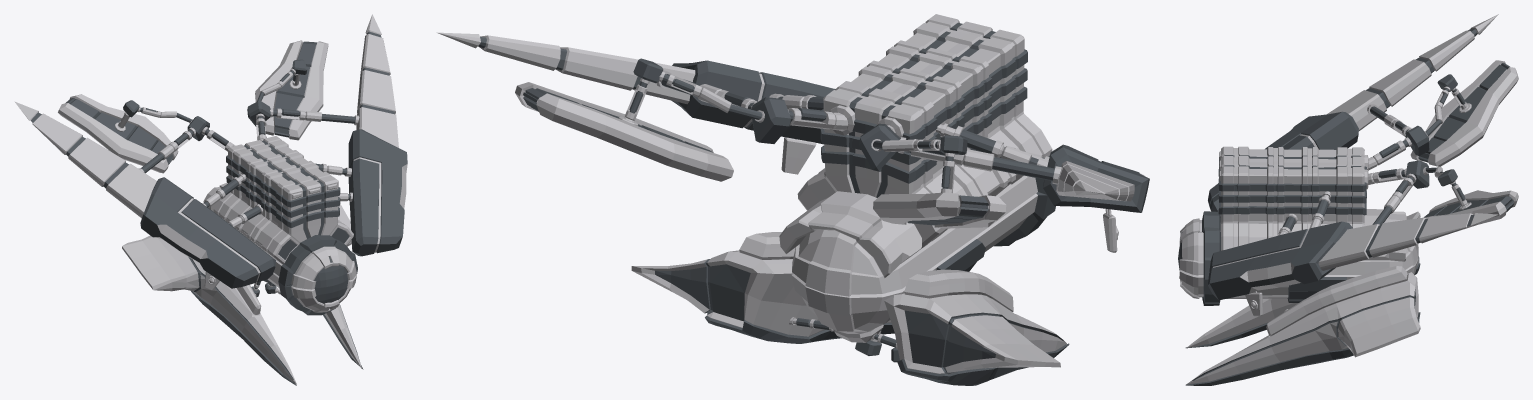
File: Fighter_03_Neutral.fbx
The picture shows the model from 3 angles, left to right: view 1: azimuth 30°, elevation 25°; view 2: azimuth 150°, elevation 25°; view 3: azimuth 270°, elevation 25°; orthographic projection. The views are drawn at different scales.
Parts seen in each view (by area): view 1: Fighter_03_Neutral; view 2: Fighter_03_Neutral; view 3: Fighter_03_Neutral.
Part boxes in pixels (x1,y1,x2,y2): Fighter_03_Neutral: [14, 14, 407, 385]; Fighter_03_Neutral: [437, 14, 1149, 385]; Fighter_03_Neutral: [1178, 14, 1518, 385].
Size of the model in its own units: 1519 by 892 by 1091.
2 materials, 2 textured.
